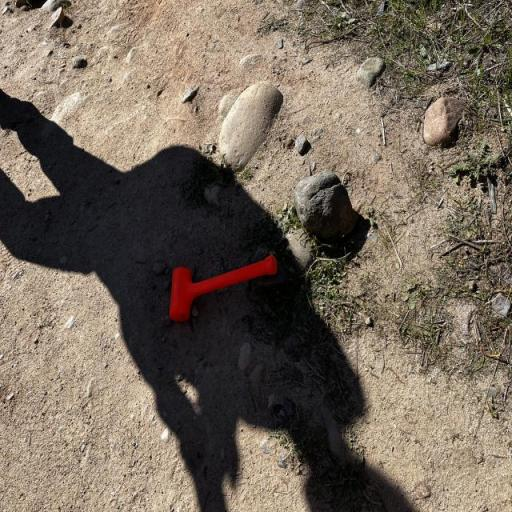mallet: (168, 256, 278, 321)
